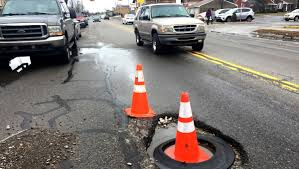pothole: (139, 111, 253, 169), (1, 127, 86, 169)
